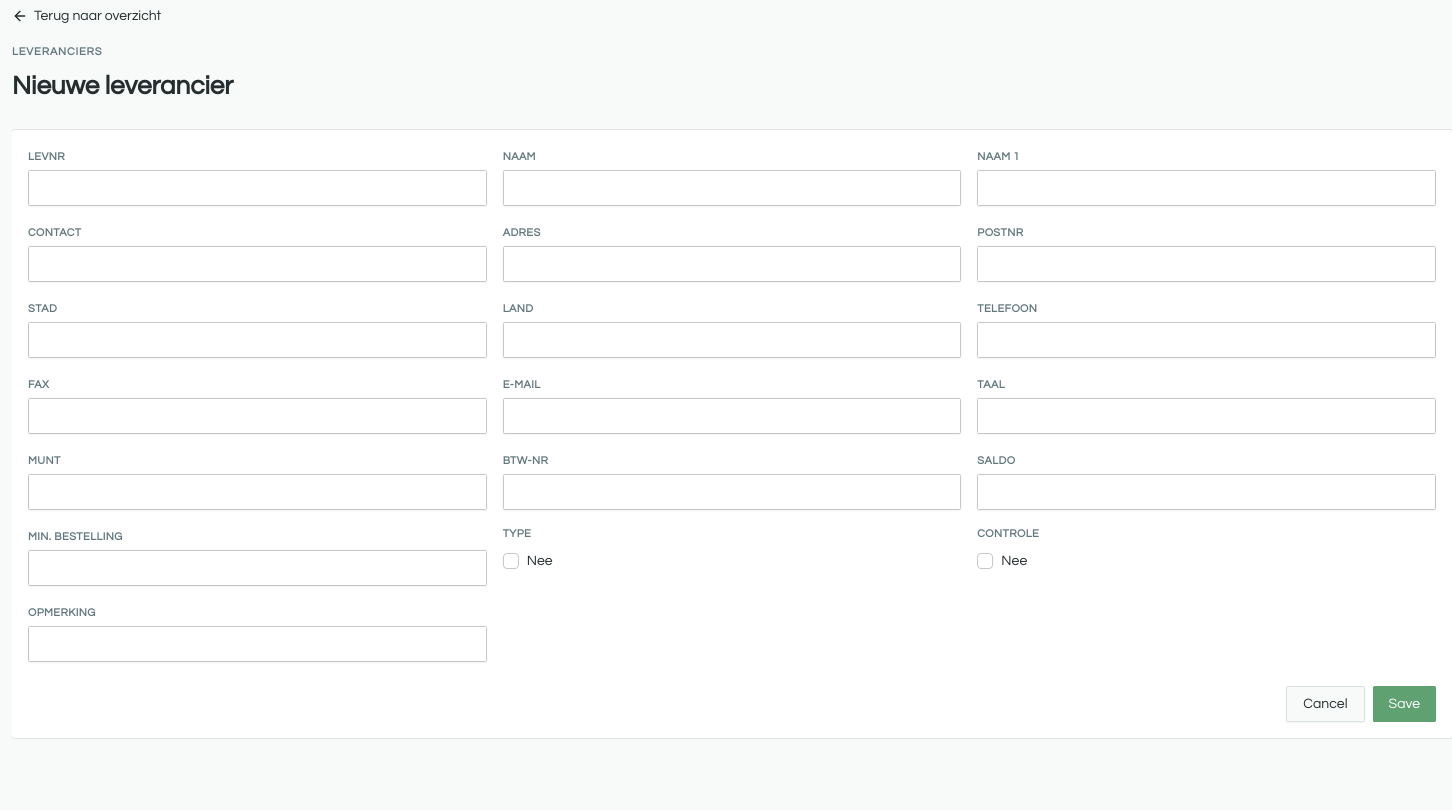
Test: LeverancierCreatePage › rejects a non-positive levnr
Type "-5" into the number field labelled "Levnr" at (257, 188), box x1=28 y1=170 x2=487 y2=206
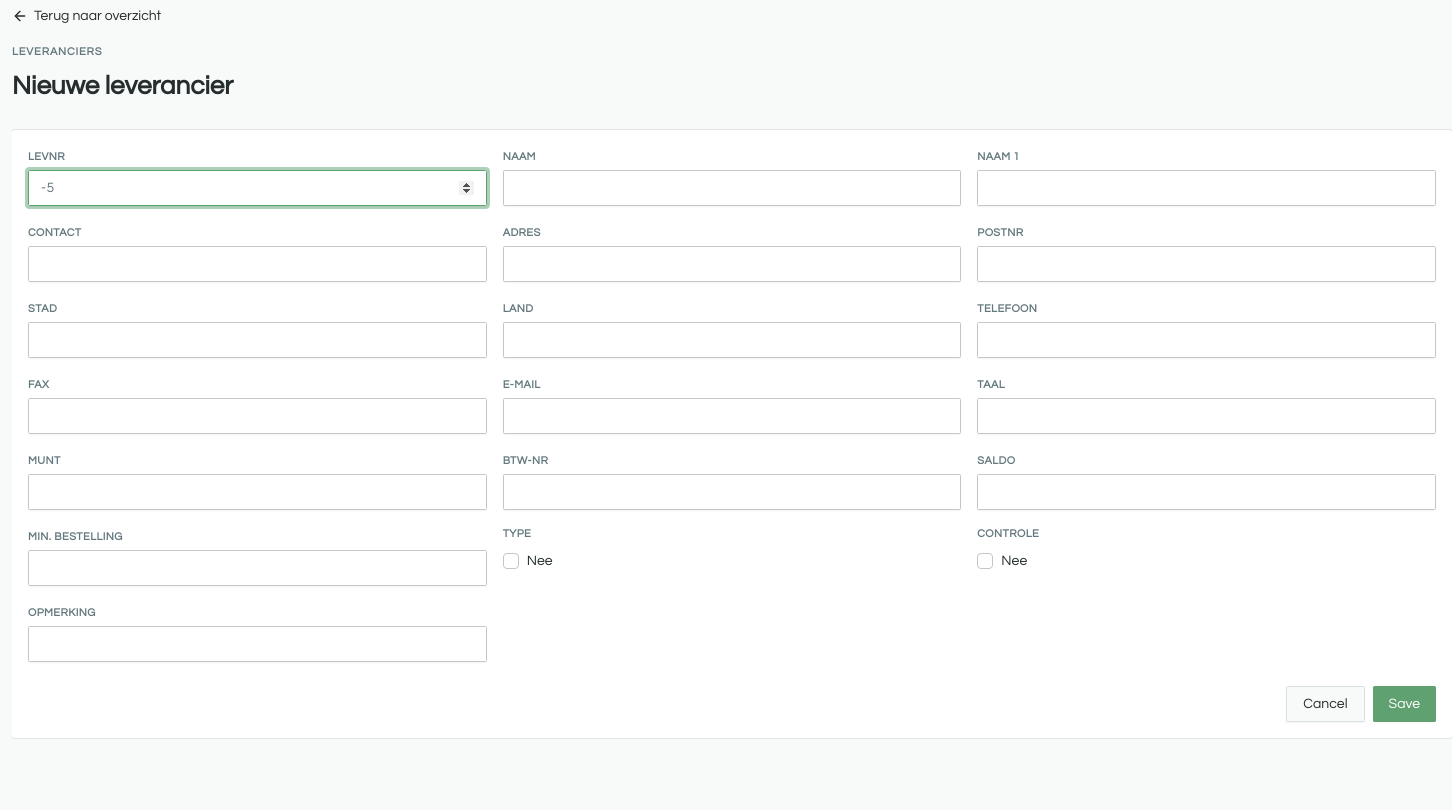
Click the button "Save" at (1404, 704), box x1=1372 y1=686 x2=1436 y2=722
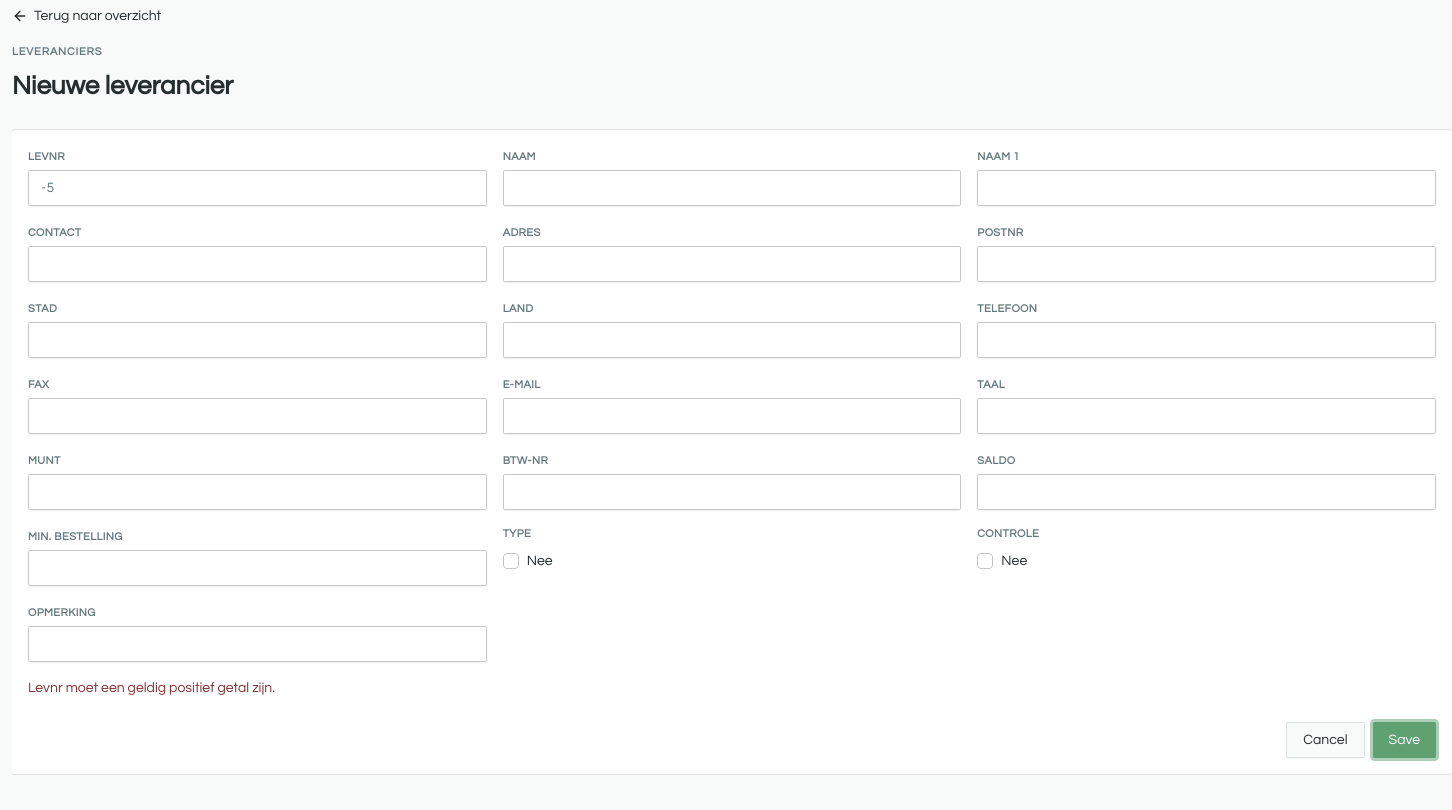
Expected: the text "Levnr moet een geldig positief getal zijn." is shown, x1=28 y1=680 x2=275 y2=694
